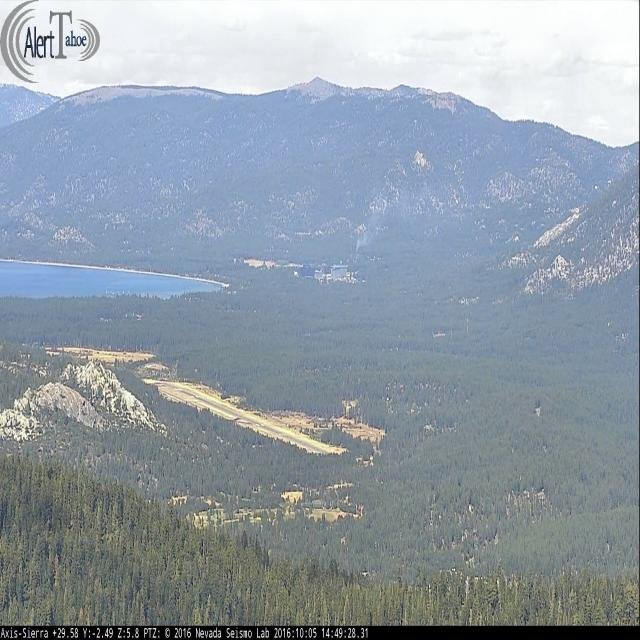smoke: (356, 230, 372, 254)
